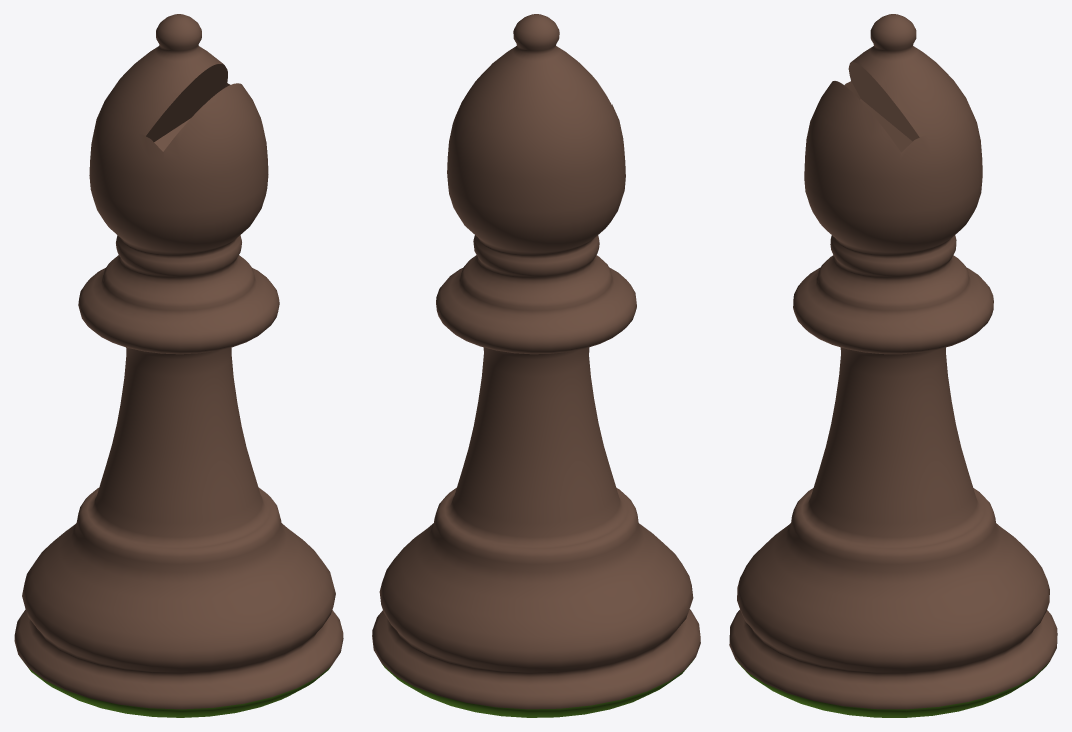
The model's file is blackbishop.glb.
3 views of the same model, side by side, from view 1: azimuth 30°, elevation 25°; view 2: azimuth 150°, elevation 25°; view 3: azimuth 270°, elevation 25° (orthographic).
Parts seen in each view (by area): view 1: blackbishop; view 2: blackbishop; view 3: blackbishop.
Boxes of the visible parts, x1=… form: blackbishop: x1=14, y1=14, x2=343, y2=717; blackbishop: x1=372, y1=14, x2=700, y2=717; blackbishop: x1=729, y1=14, x2=1057, y2=717.
Size of the model in its own units: 0.5747 by 1.26 by 0.5747.
